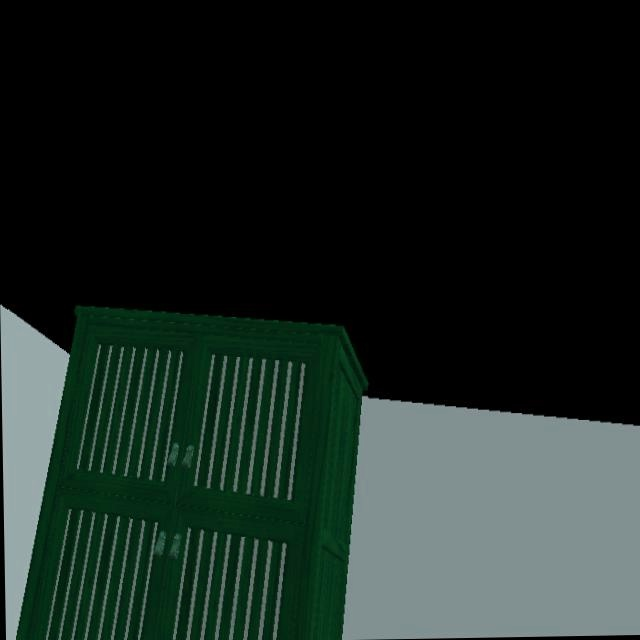wardrobe: (15, 307, 368, 640)
